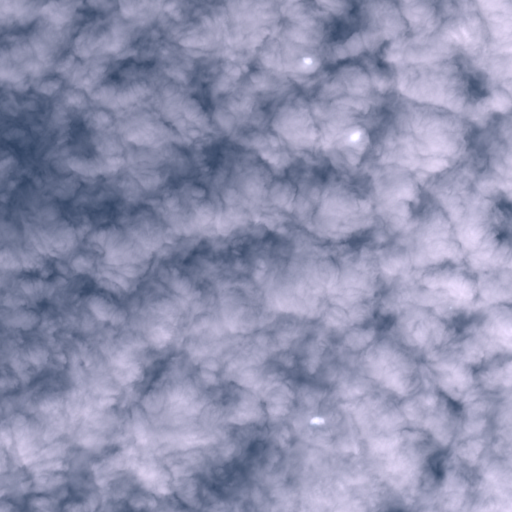Iceberg: (310, 417, 324, 424), (351, 132, 359, 140), (303, 58, 311, 63)
